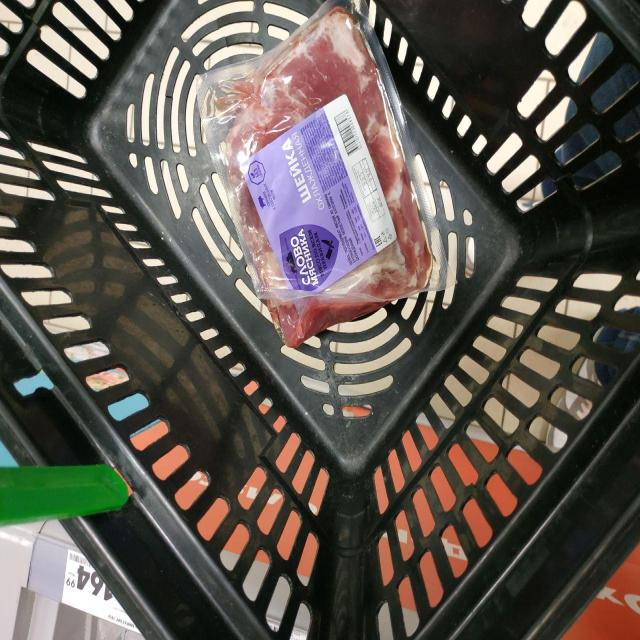Meat: (198, 3, 448, 347)
